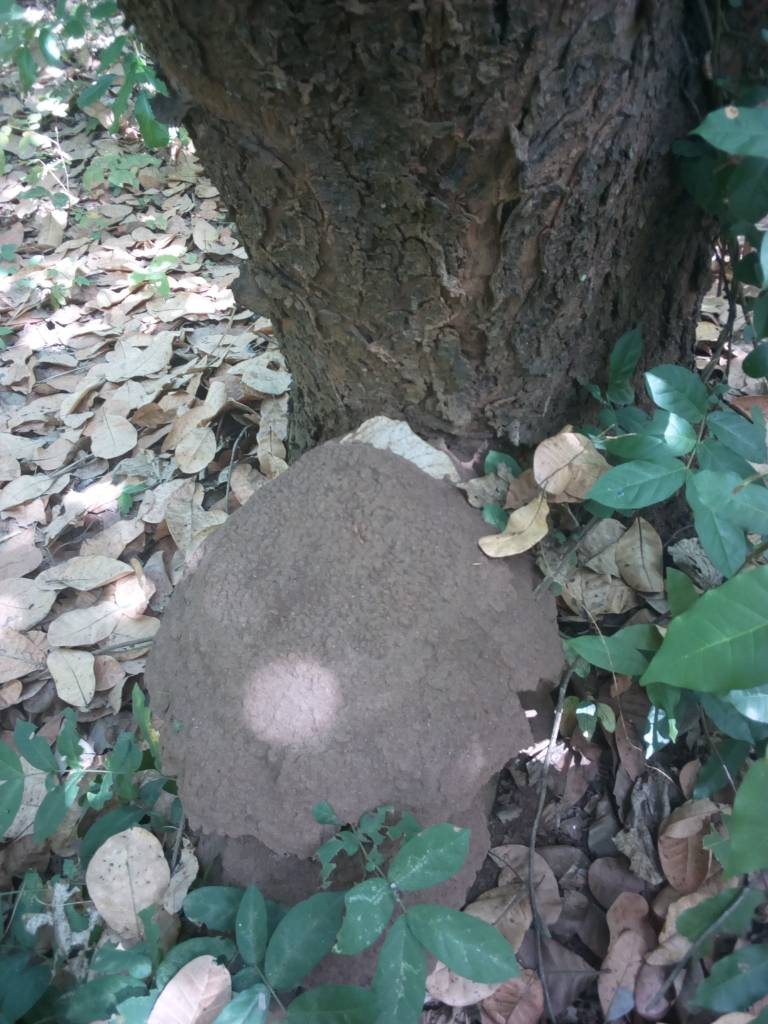Termites: (157, 436, 515, 852)
